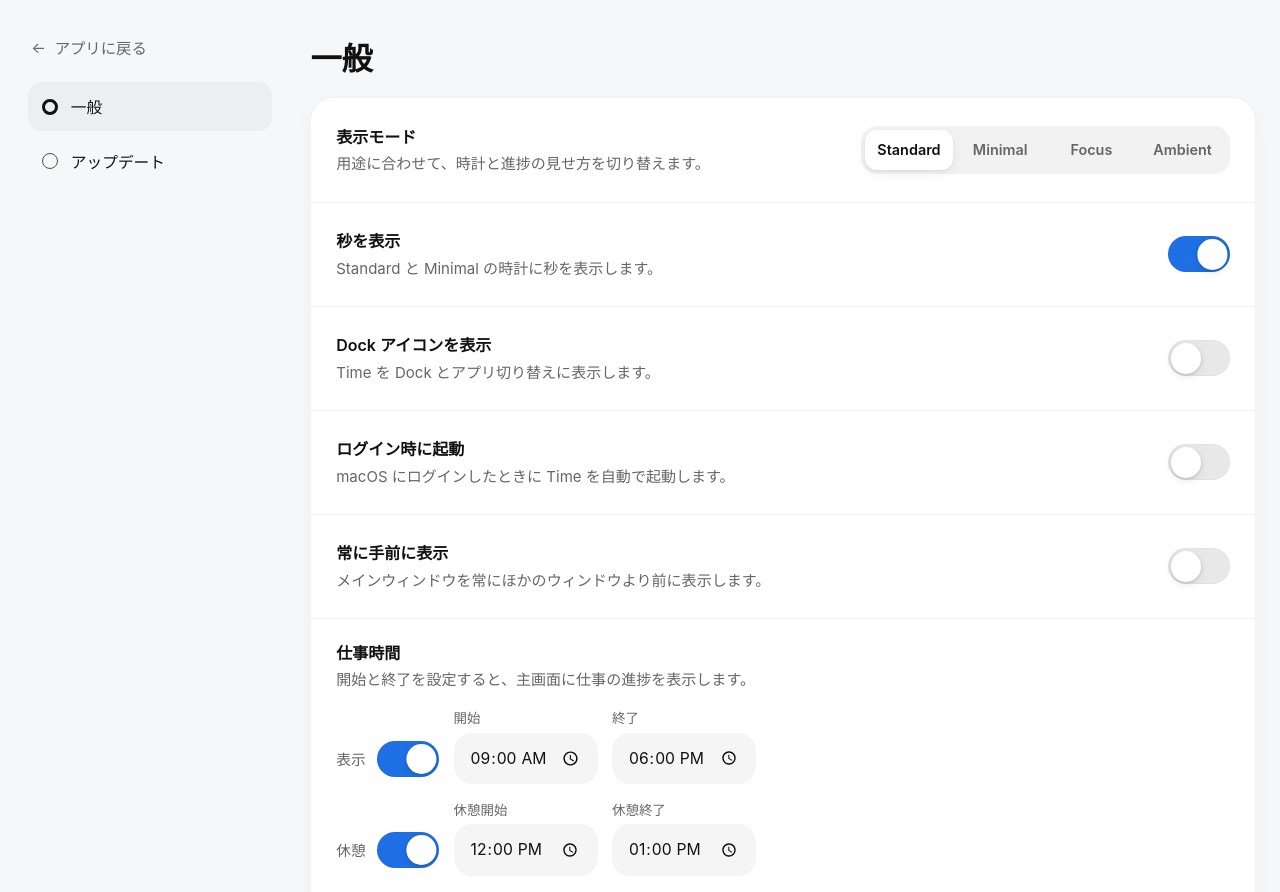
App › shows the up-to-date state after a manual update check
This screenshot has width=1280, height=892.
Step 1. Click the button "アップデート" → coordinates (150, 161), box [28,137,272,186]
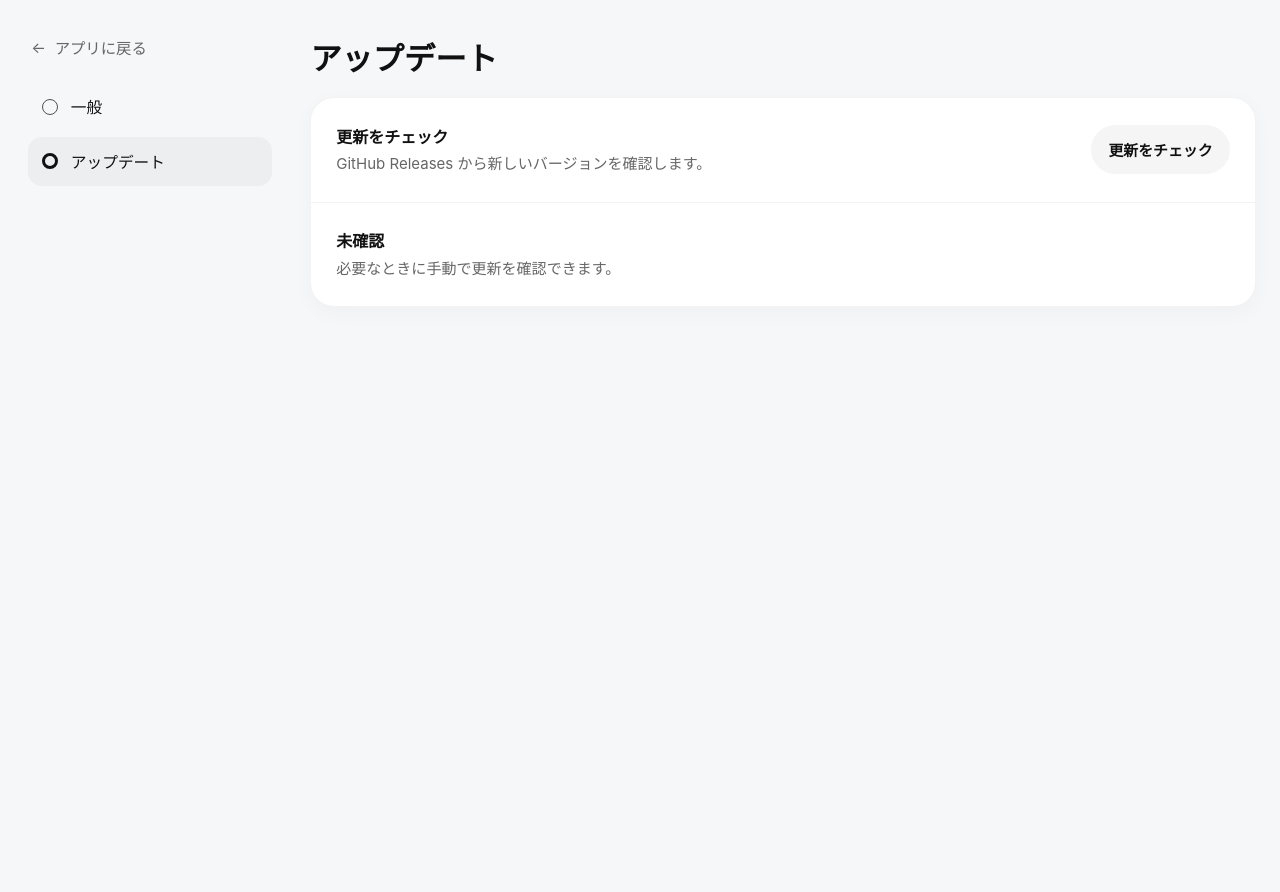
Step 2. Click the button "更新をチェック" → coordinates (1161, 150), box [1091,125,1230,174]
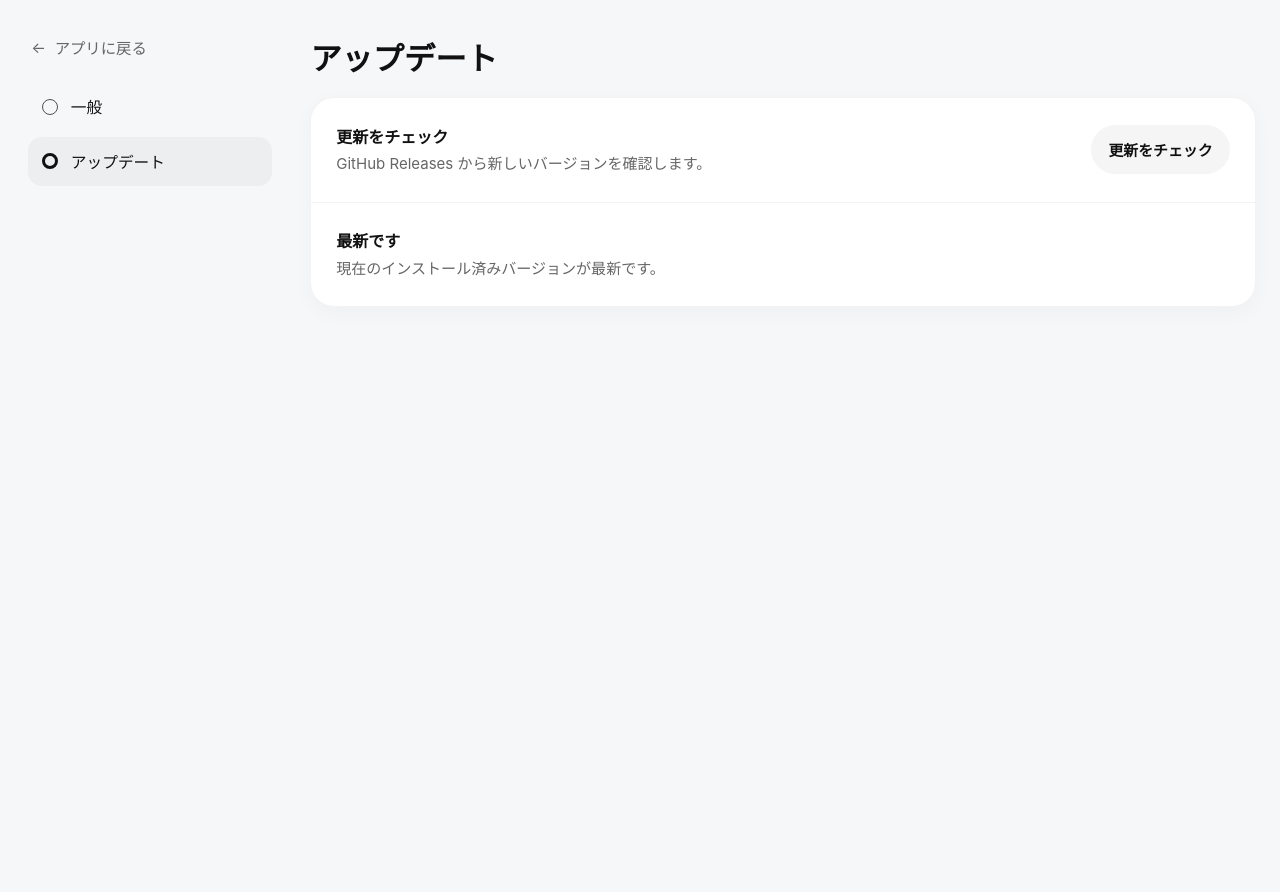
Result: the heading "最新です" is shown at [336,231,400,251]
